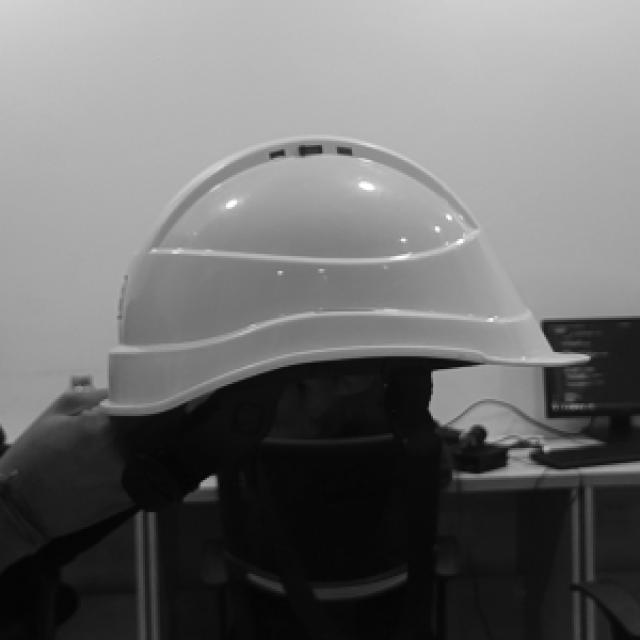safety_helmet: (100, 134, 591, 416)
